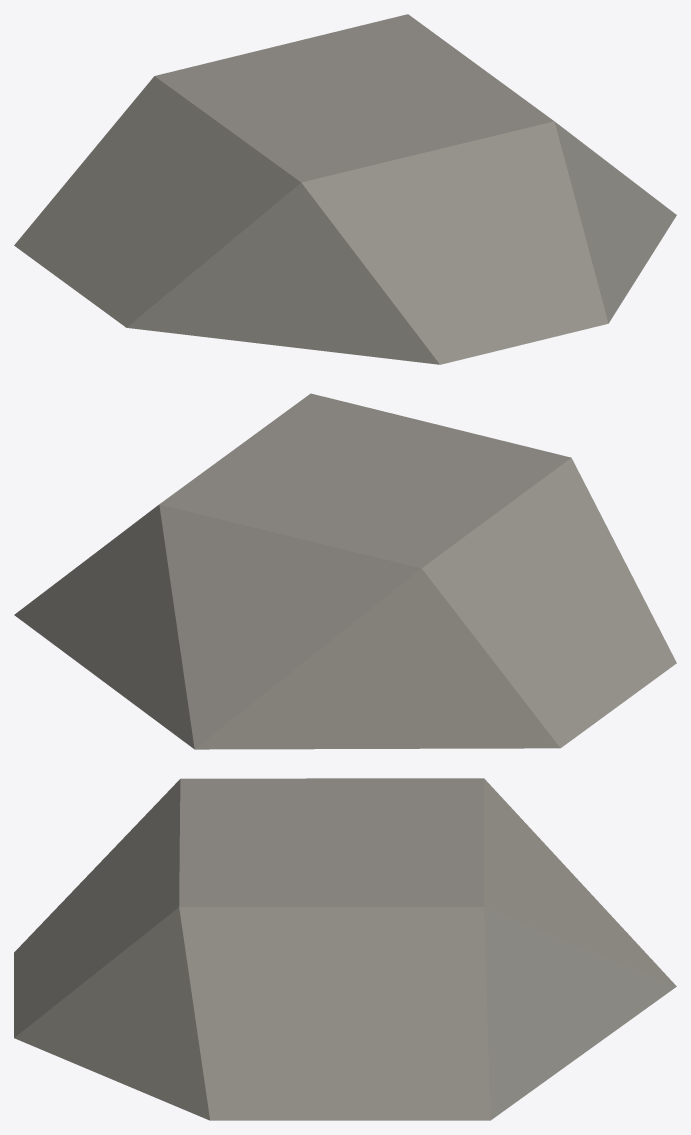
Rendered from Rock_Round_s_04.fbx.
3 views of the same model, one above another, from view 1: azimuth 30°, elevation 25°; view 2: azimuth 150°, elevation 25°; view 3: azimuth 270°, elevation 25° (orthographic). The views are drawn at different scales.
Visible parts, largest first — view 1: Rock_Round_s_04; view 2: Rock_Round_s_04; view 3: Rock_Round_s_04.
Boxes of the visible parts, x1,y1,x2,y2 form: Rock_Round_s_04: (14, 14, 676, 364); Rock_Round_s_04: (14, 393, 676, 749); Rock_Round_s_04: (14, 778, 676, 1120).
Bounding box in the file's own units: 22.53 × 5.63 × 23.51.
